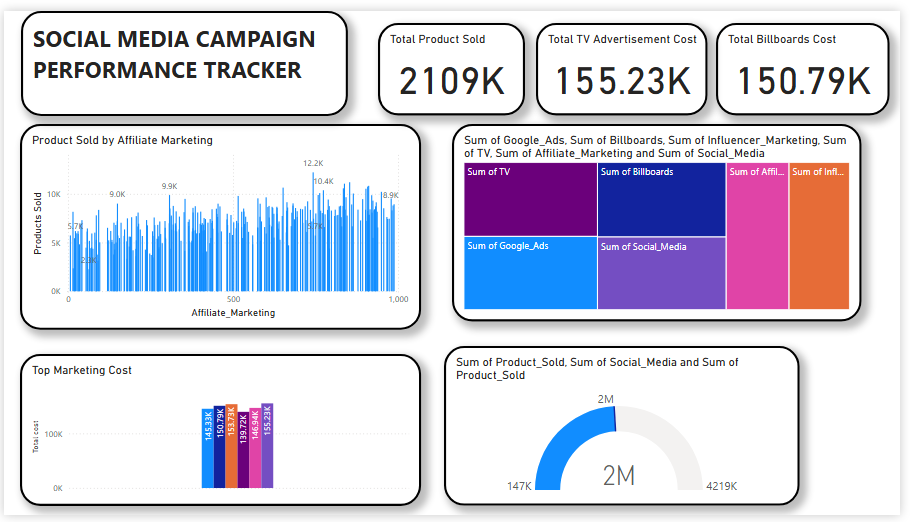

What the dashboard file says about the page in this screenshot:
{"tool":"powerbi","page":{"name":"Page 1","canvas":[1280,720],"ordinal":0},"visuals":[{"type":"clusteredColumnChart","title":"Product Sold by Affiliate Marketing","fields":{"Y":["Sum(Advertising_Data.Product_Sold)"],"Category":["Advertising_Data.Affiliate_Marketing"]},"box":[23.5,161.6,573.1,293.9],"z":0},{"type":"clusteredColumnChart","title":"Top Marketing Cost","fields":{"Y":["Sum(Advertising_Data.Affiliate_Marketing)","Sum(Advertising_Data.Billboards)","Sum(Advertising_Data.Google_Ads)","Sum(Advertising_Data.Influencer_Marketing)","Sum(Advertising_Data.Social_Media)","Sum(Advertising_Data.TV)"]},"box":[23.5,489.3,573.1,217.5],"z":1},{"type":"gauge","fields":{"TargetValue":["Sum(Advertising_Data.Product_Sold)"],"MinValue":["Sum(Advertising_Data.Social_Media)"],"Y":["Sum(Advertising_Data.Product_Sold)"]},"box":[628.9,479,508.4,227.8],"z":2},{"type":"card","title":"Total Product Sold","fields":{"Values":["Sum(Advertising_Data.Product_Sold)"]},"box":[534.9,17.6,210.1,132.2],"z":3},{"type":"card","title":"Total Billboards Cost","fields":{"Values":["Sum(Advertising_Data.Billboards)"]},"box":[1016.8,17.6,248.3,132.2],"z":4},{"type":"card","title":"Total TV Advertisement  Cost","fields":{"Values":["Sum(Advertising_Data.TV)"]},"box":[759.7,17.6,245.4,132.2],"z":5},{"type":"treemap","fields":{"Values":["Sum(Advertising_Data.Google_Ads)","Sum(Advertising_Data.Billboards)","Sum(Advertising_Data.Influencer_Marketing)","Sum(Advertising_Data.TV)","Sum(Advertising_Data.Affiliate_Marketing)","Sum(Advertising_Data.Social_Media)"]},"box":[640.7,161.6,584.8,282.1],"z":6},{"type":"textbox","box":[24,0,467,150],"z":7}]}

Visuals, with their boxes in screenshot pixels (x1, y1, x2, y2), scaled from the page's 1280x720 canvas onto the 910x522 screenshot:
"Product Sold by Affiliate Marketing" clusteredColumnChart: bbox=[17, 117, 424, 330]
"Top Marketing Cost" clusteredColumnChart: bbox=[17, 355, 424, 512]
gauge - Sum(Advertising_Data.Product_Sold) x Sum(Advertising_Data.Social_Media): bbox=[447, 347, 809, 512]
"Total Product Sold" card: bbox=[380, 13, 530, 109]
"Total Billboards Cost" card: bbox=[723, 13, 899, 109]
"Total TV Advertisement  Cost" card: bbox=[540, 13, 715, 109]
treemap - Sum(Advertising_Data.Google_Ads) x Sum(Advertising_Data.Billboards): bbox=[455, 117, 871, 322]
textbox: bbox=[17, 0, 349, 109]
